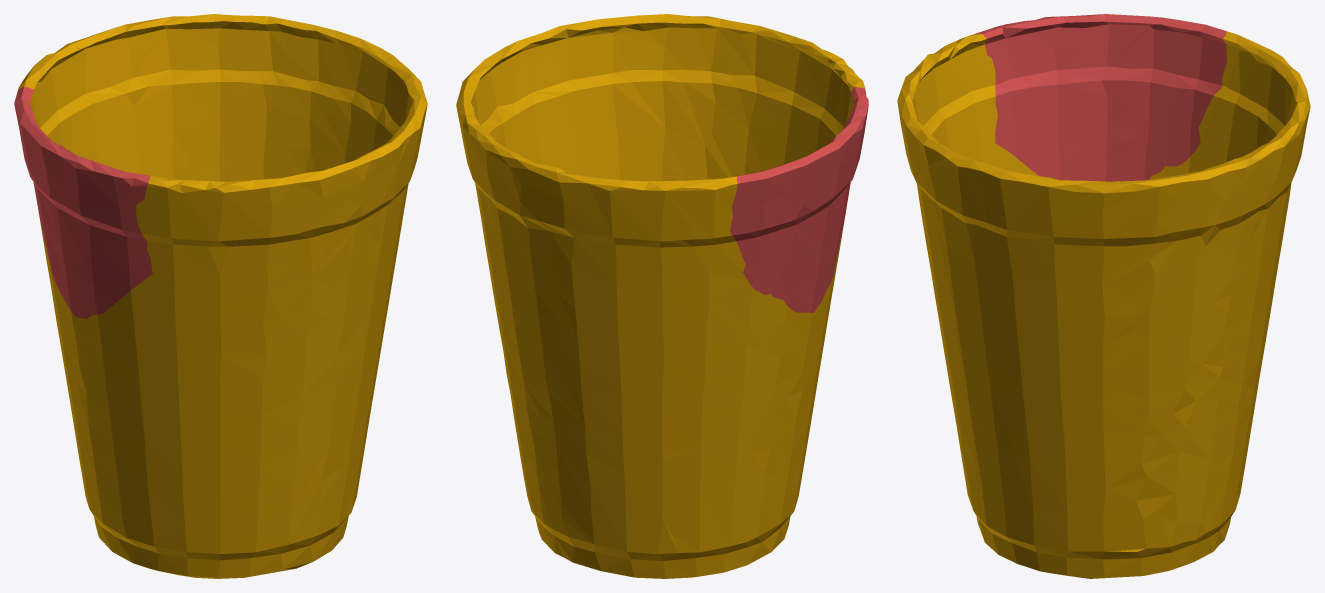
The model's file is fractured_66_2pcs.glb.
The picture shows the model from 3 angles, left to right: view 1: azimuth 30°, elevation 25°; view 2: azimuth 150°, elevation 25°; view 3: azimuth 270°, elevation 25°; orthographic projection.
Visible parts, largest first — view 1: piece_0.obj, piece_1.obj; view 2: piece_0.obj, piece_1.obj; view 3: piece_0.obj, piece_1.obj.
Boxes of the visible parts, left/top/right/bottom form: piece_0.obj: left=18, top=14, right=427, bottom=578; piece_1.obj: left=14, top=86, right=152, bottom=318; piece_0.obj: left=456, top=14, right=865, bottom=578; piece_1.obj: left=730, top=86, right=868, bottom=312; piece_0.obj: left=897, top=31, right=1310, bottom=578; piece_1.obj: left=975, top=14, right=1226, bottom=181.
Bounding box in the file's own units: 0.8678 × 1 × 0.8681.
